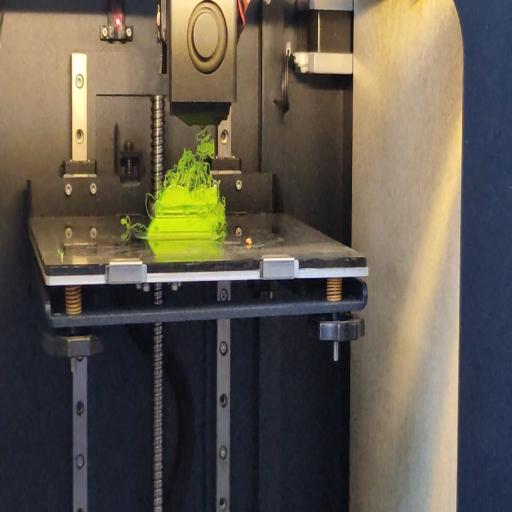spaghetti: (164, 130, 226, 188), (118, 216, 146, 230), (146, 188, 154, 217), (219, 226, 226, 244)
